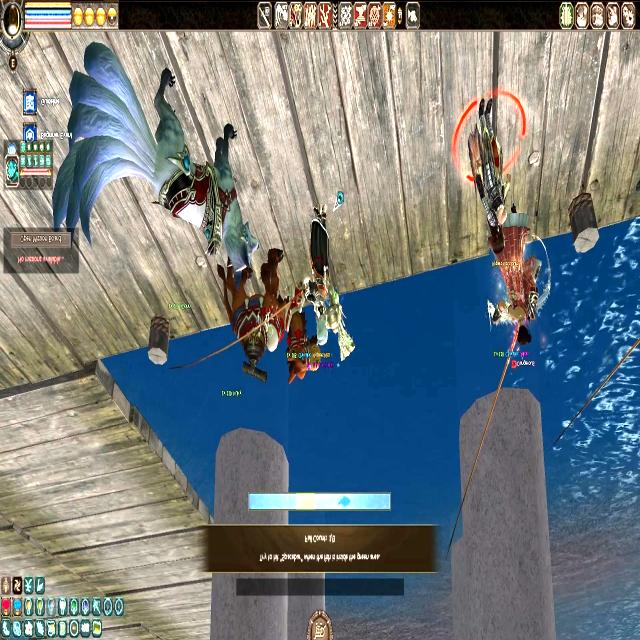fishes: (338, 495, 351, 508)
